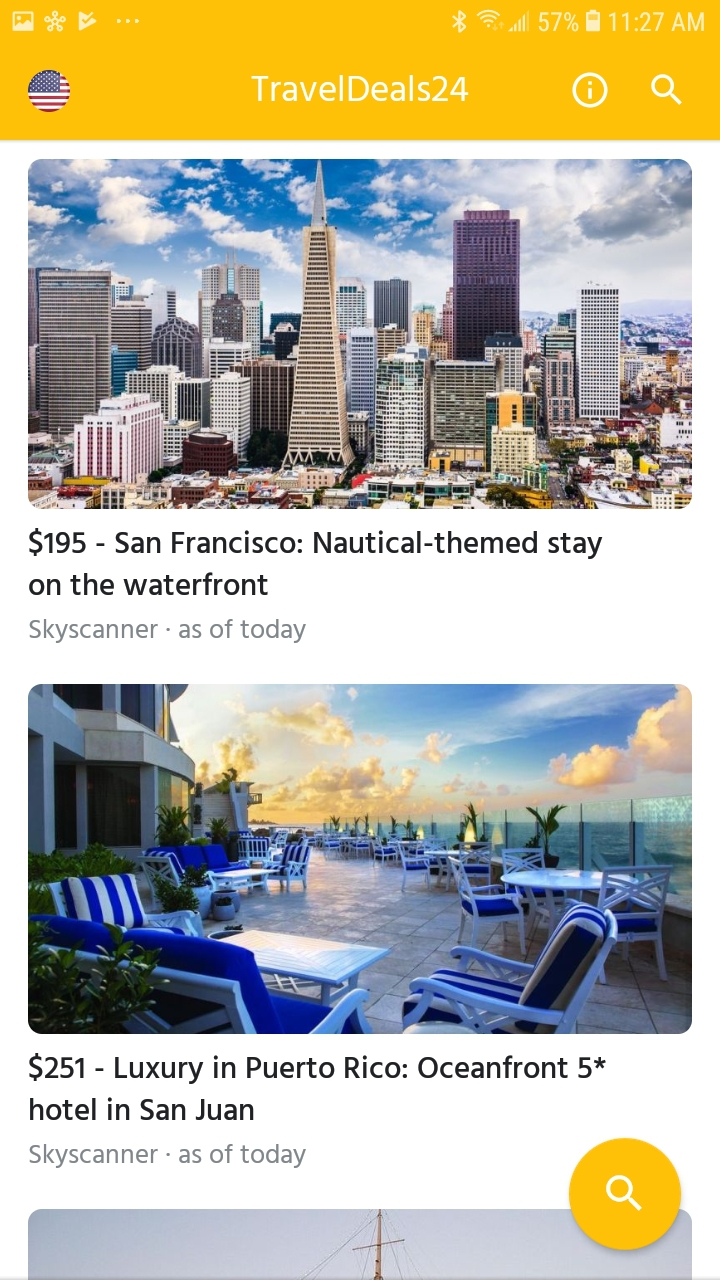Icon: (568, 1137, 681, 1251), (572, 73, 609, 110), (650, 74, 683, 106)
Image: (28, 684, 692, 1035), (29, 159, 693, 510), (28, 1208, 692, 1280), (28, 71, 71, 114)
Text: (28, 1052, 606, 1122), (29, 527, 603, 596), (29, 619, 307, 644), (30, 1144, 307, 1169), (251, 75, 469, 103)
UpperTaskBar: (1, 1, 720, 35)
